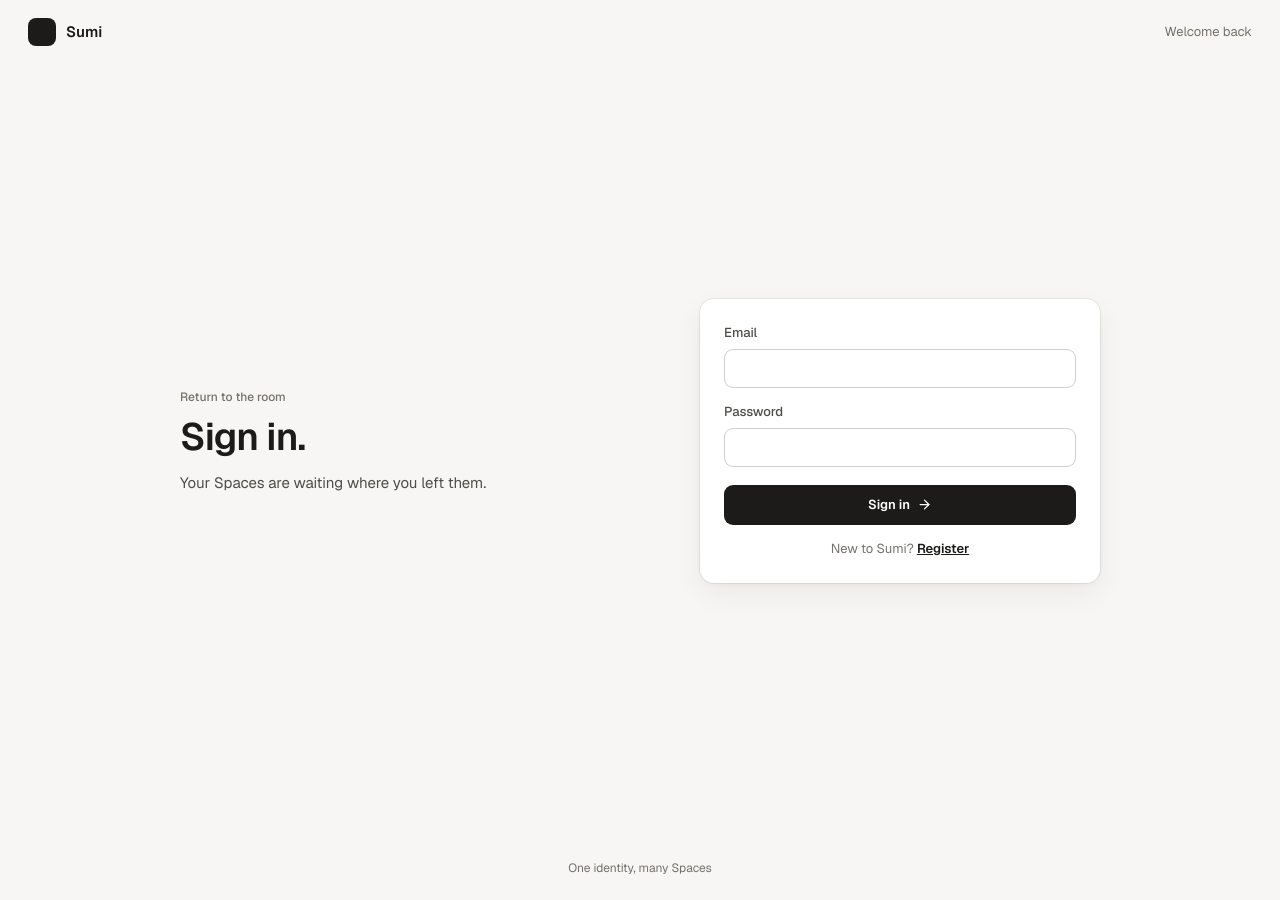
LoginPage › offers Space creation when the identity belongs to no Space
The image size is (1280, 900).
Type "ada@example.test" into the field labelled "Email".
click(900, 368); type("ada@example.test")  # box [724,349,1076,388]
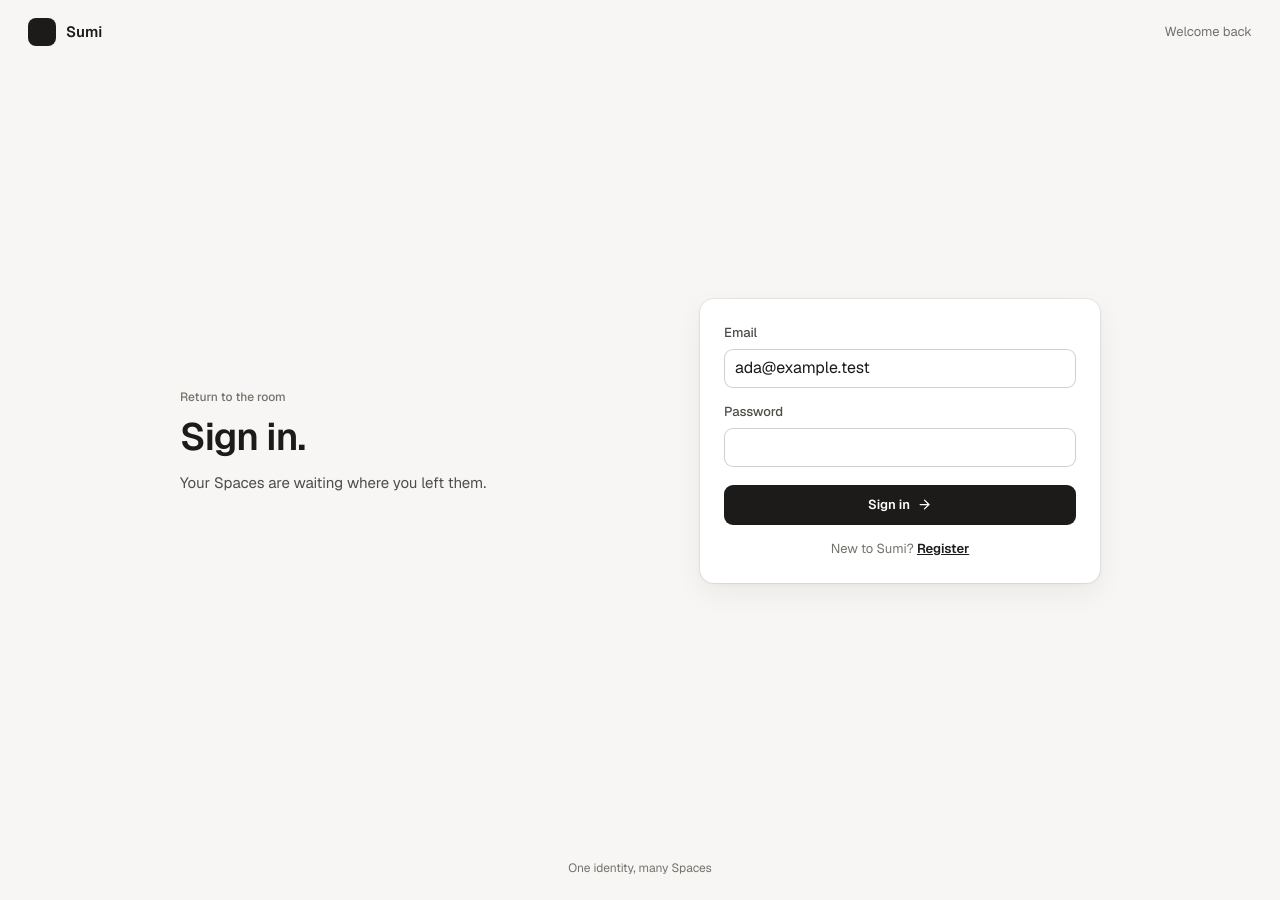
Type "correct-horse-battery" into the password field labelled "Password".
click(900, 447); type("correct-horse-battery")  # box [724,428,1076,467]
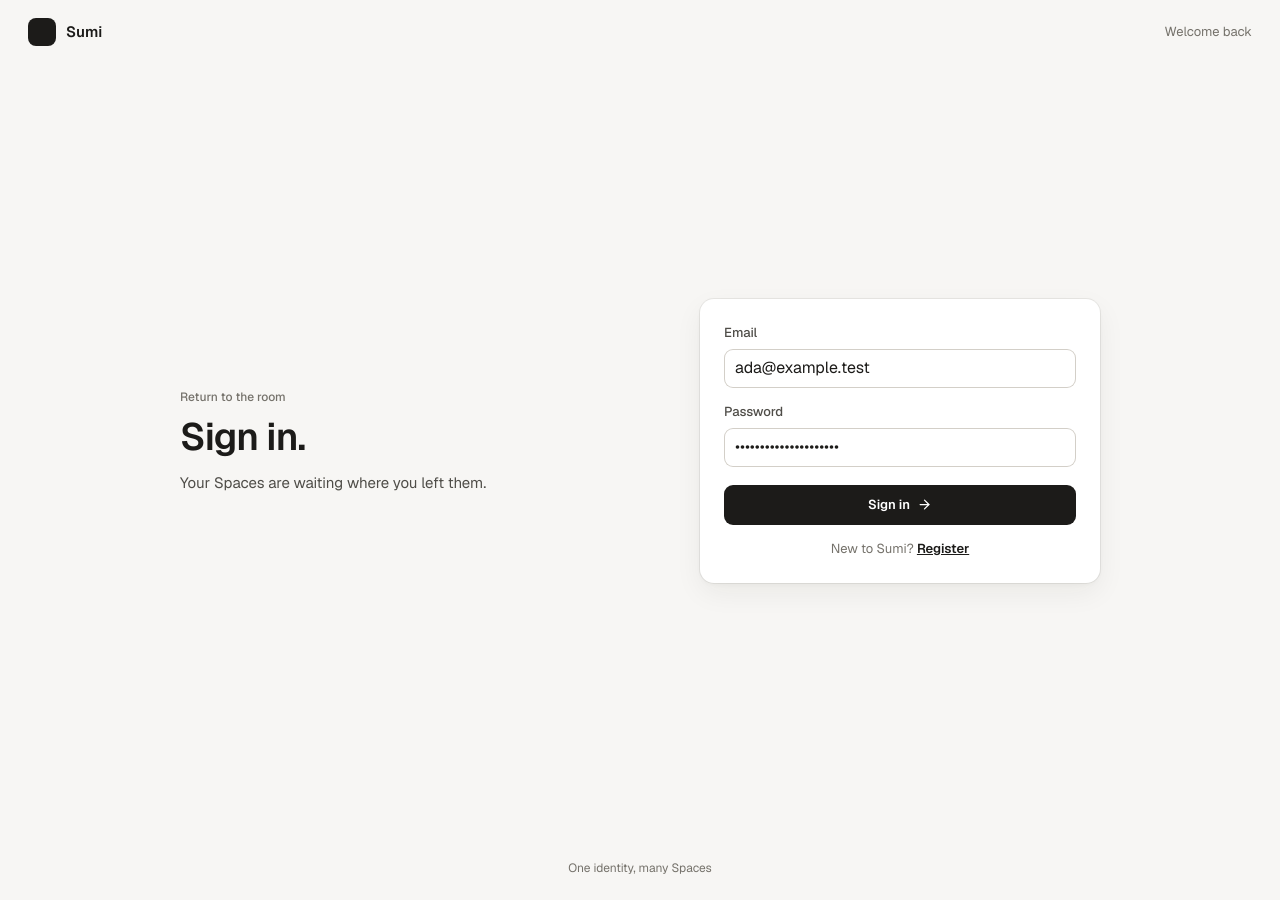
Click the button "Sign in".
click(900, 505)  # box [724,485,1076,525]
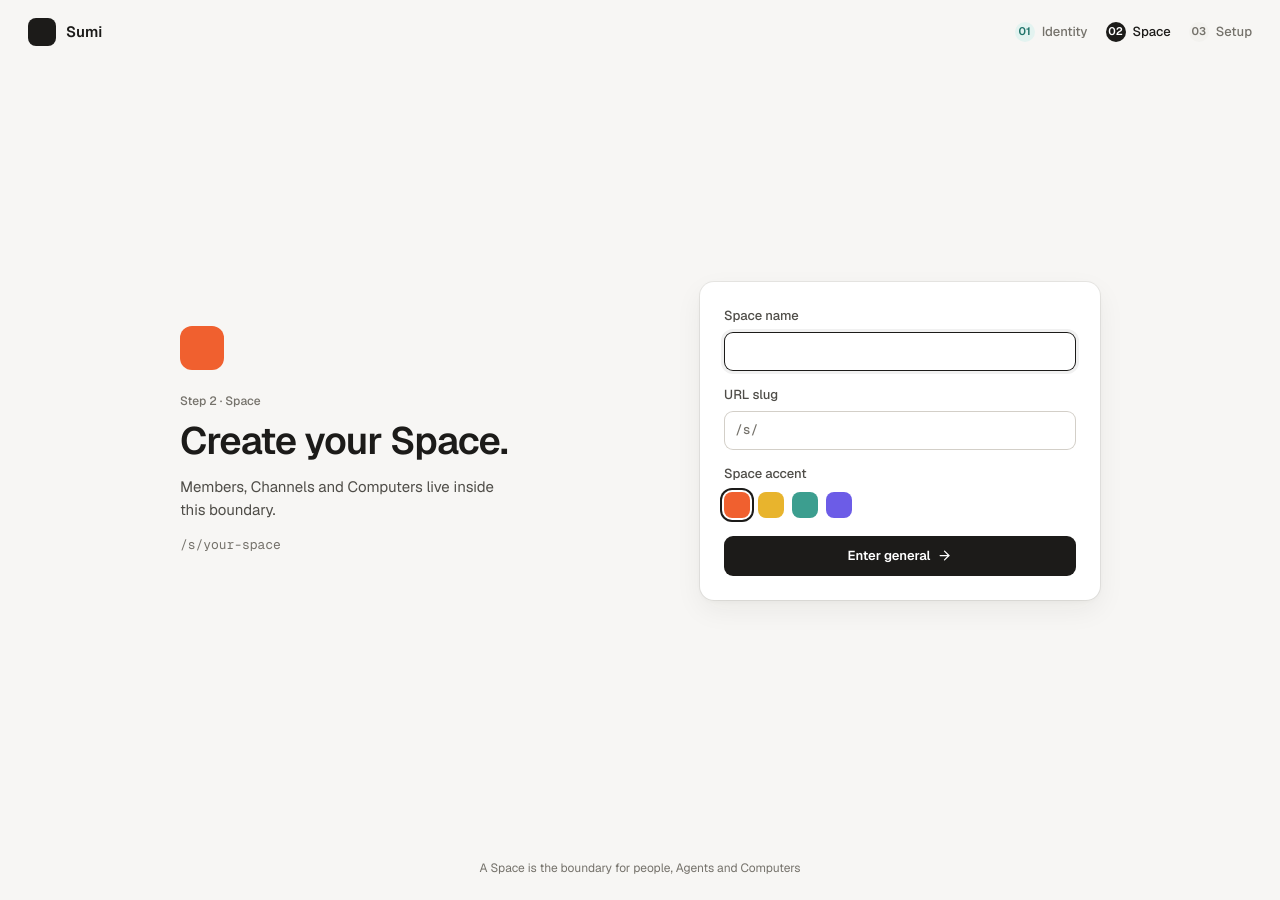
Expected: the heading "Create your Space." is shown, [180,420,508,463]
